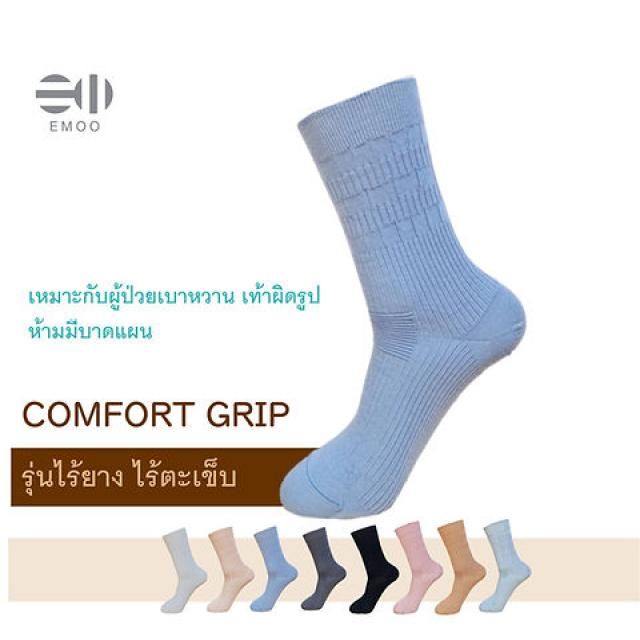sock: (277, 74, 527, 519), (478, 518, 530, 612), (250, 526, 298, 610), (300, 526, 345, 610)
